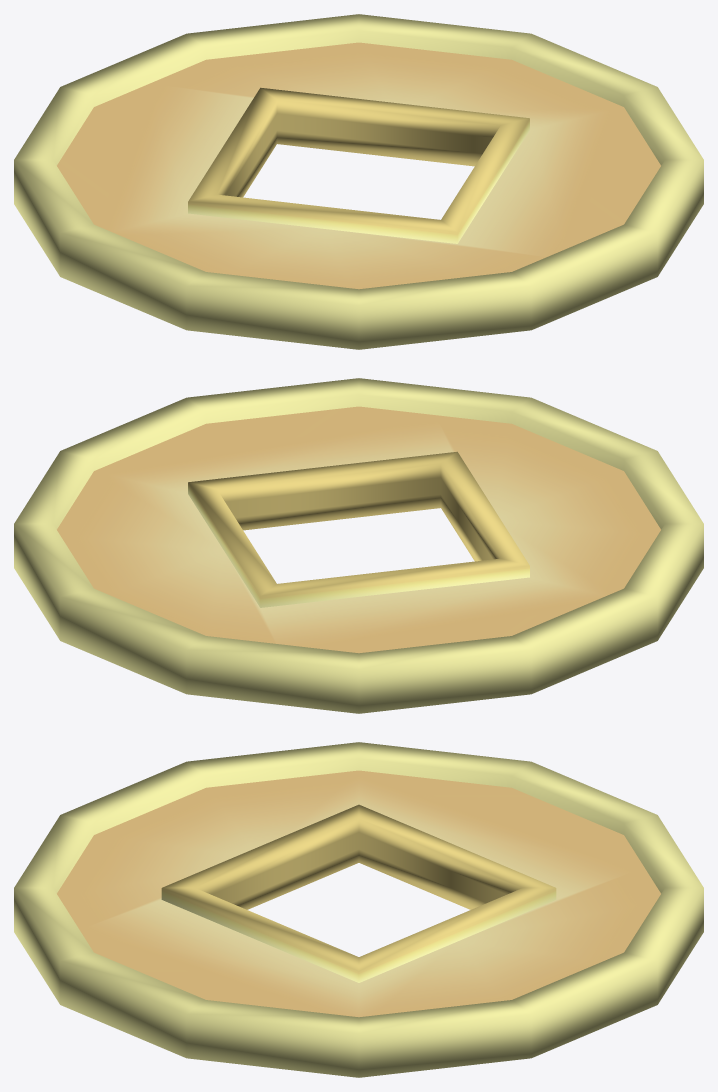
File: SM_Coin.fbx
3 renders of one model, top to bottom at view 1: azimuth 30°, elevation 25°; view 2: azimuth 150°, elevation 25°; view 3: azimuth 270°, elevation 25°, orthographic.
Parts seen in each view (by area): view 1: Coin; view 2: Coin; view 3: Coin.
Boxes of the visible parts, x1,y1,x2,y2 form: Coin: [14, 14, 703, 349]; Coin: [14, 378, 703, 713]; Coin: [14, 742, 703, 1077].
Size of the model in its own units: 0.4 by 0.0282 by 0.4.
